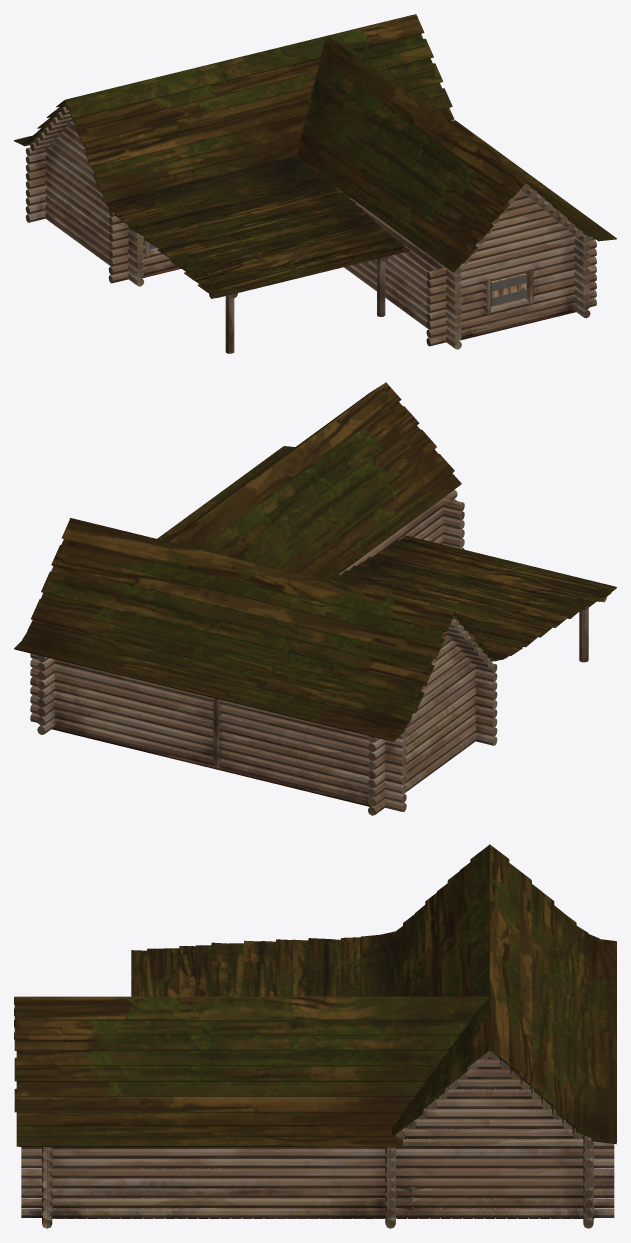
File: rumah3J.fbx
3 views of the same model, one above another, from view 1: azimuth 30°, elevation 25°; view 2: azimuth 150°, elevation 25°; view 3: azimuth 270°, elevation 25° (orthographic). The views are drawn at different scales.
Parts seen in each view (by area): view 1: Cylinder.014; view 2: Cylinder.014; view 3: Cylinder.014.
Boxes of the visible parts, bbox=[...] form: Cylinder.014: bbox=[14, 14, 616, 353]; Cylinder.014: bbox=[14, 382, 616, 815]; Cylinder.014: bbox=[14, 844, 616, 1228].
Bounding box in the file's own units: 1408 × 588 × 1738.
